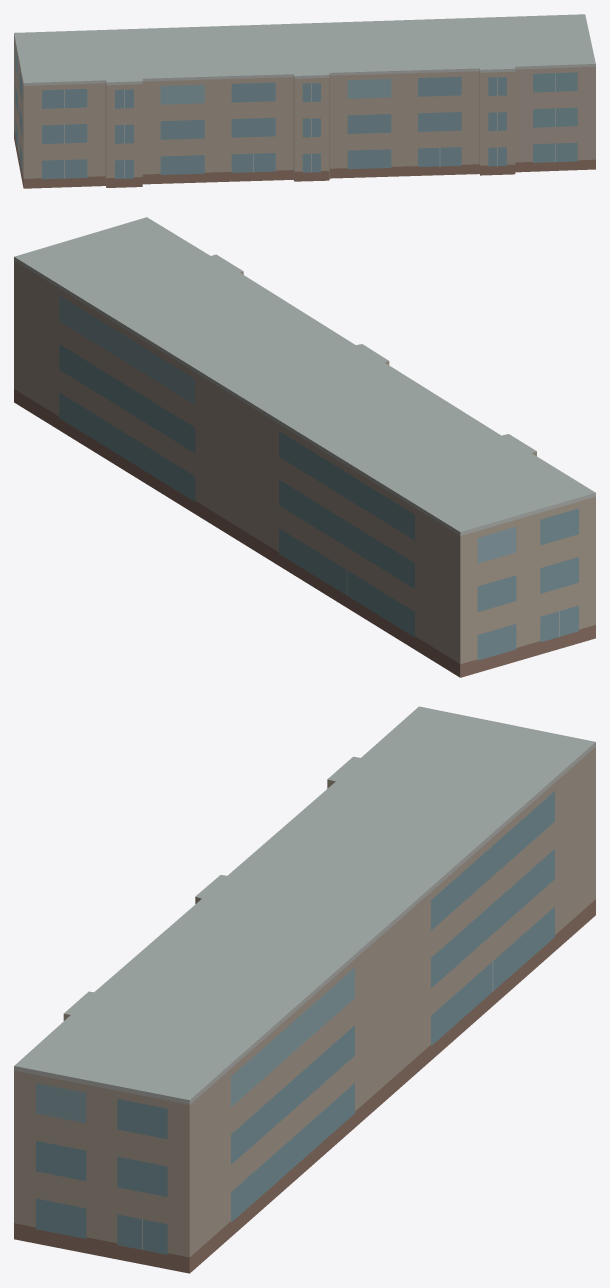
File: survey-upis-32552216.glb
3 views of the same model, one above another, from view 1: azimuth 30°, elevation 25°; view 2: azimuth 150°, elevation 25°; view 3: azimuth 270°, elevation 25° (orthographic). The views are drawn at different scales.
Visible parts, largest first — view 1: survey-upis-32552216.tmp; view 2: survey-upis-32552216.tmp; view 3: survey-upis-32552216.tmp.
Boxes of the visible parts, x1,y1,x2,y2 form: survey-upis-32552216.tmp: [14, 14, 595, 188]; survey-upis-32552216.tmp: [14, 217, 595, 677]; survey-upis-32552216.tmp: [14, 706, 595, 1273].
Bounding box in the file's own units: 44.6 × 9.15 × 27.84.
